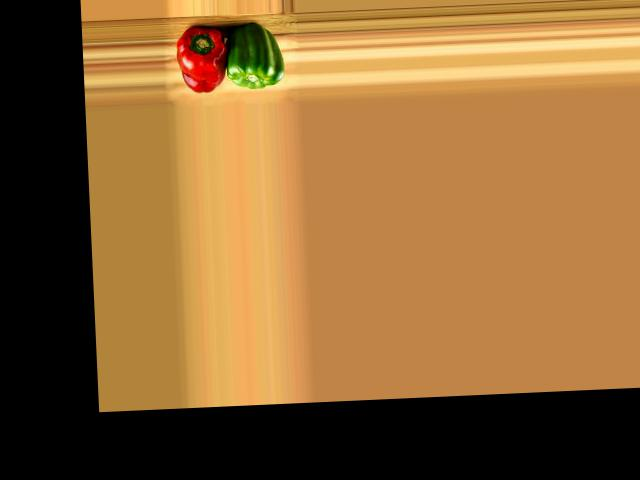bell_pepper: (174, 25, 231, 94)
